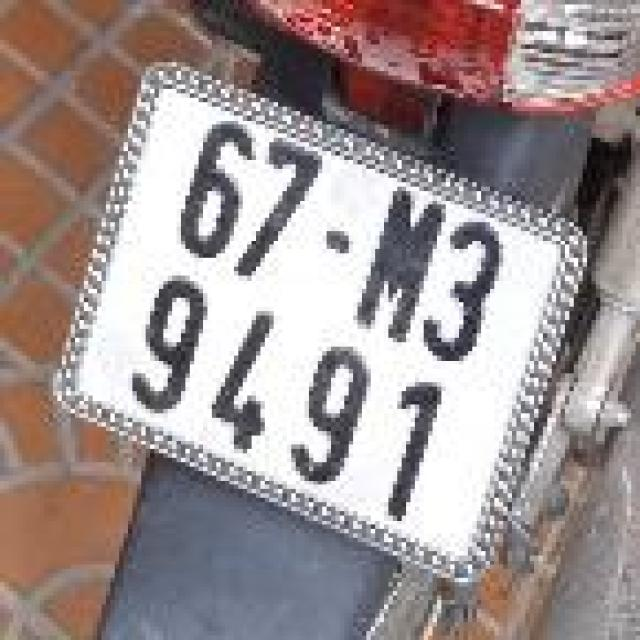1: (372, 365, 467, 537)
3: (412, 213, 526, 376)
4: (199, 294, 313, 456)
6: (162, 104, 274, 269)
7: (227, 124, 339, 293)
9: (120, 259, 232, 430), (278, 335, 388, 494)
M: (350, 172, 466, 357)
